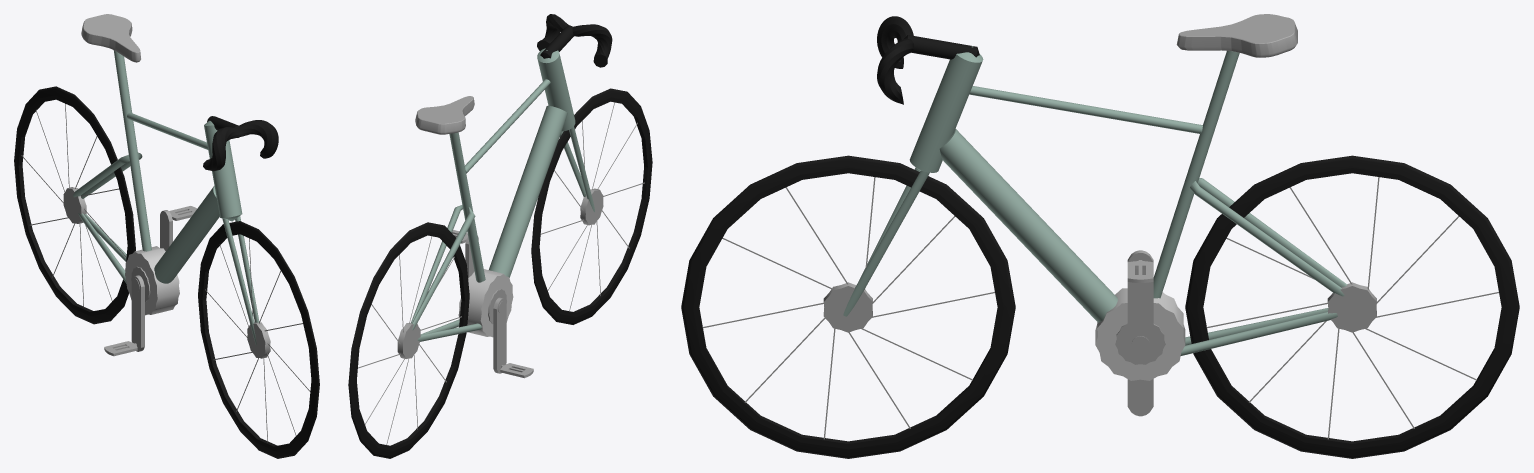
The model's file is Bike.fbx.
The picture shows the model from 3 angles, left to right: view 1: azimuth 30°, elevation 25°; view 2: azimuth 150°, elevation 25°; view 3: azimuth 270°, elevation 25°; orthographic projection. The views are drawn at different scales.
Visible parts, largest first — view 1: Bike4; view 2: Bike4; view 3: Bike4.
Boxes of the visible parts, bbox=[...] form: Bike4: bbox=[14, 14, 319, 458]; Bike4: bbox=[348, 14, 652, 458]; Bike4: bbox=[681, 14, 1519, 458].
Bounding box in the file's own units: 5.52 × 18.43 × 32.4.
